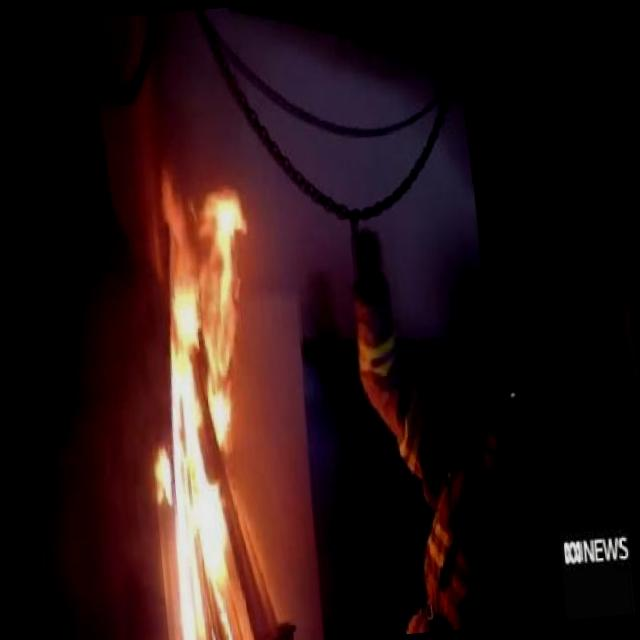fire: (116, 151, 307, 640)
